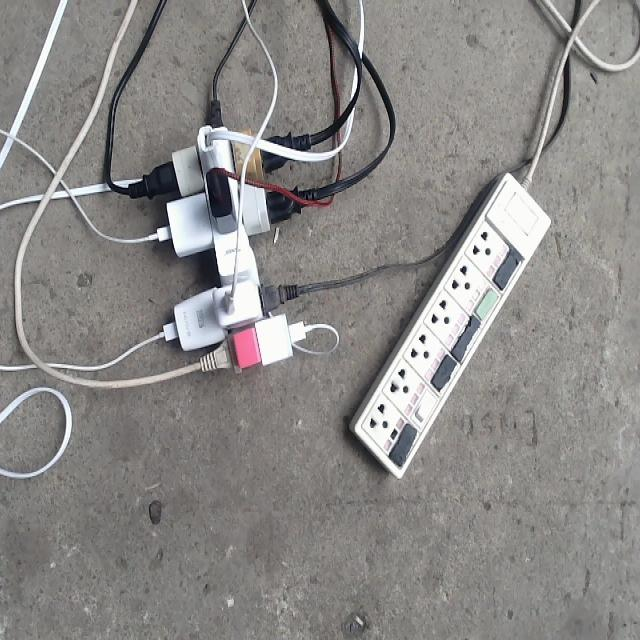-: (142, 104, 293, 372)
